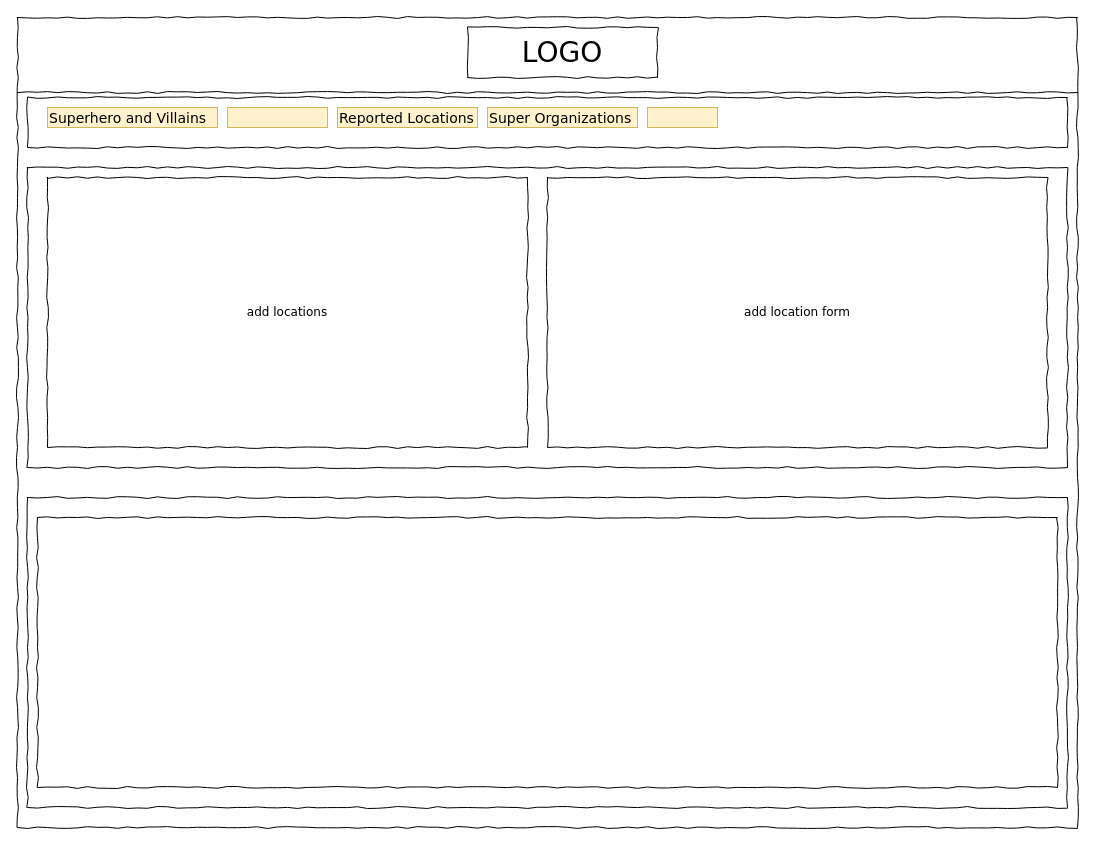
Image size: 1095x845. Some labels were removed from this diagram. The shapes that lost their labels are listed below. From the top down, each one's centre as x and y in pixels, then its label:
[277,117]: Superpowers
[682,117]: Sightings
[547,652]: list of locations
